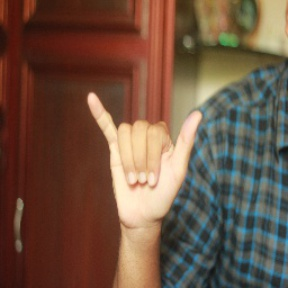J: (83, 84, 208, 225)
